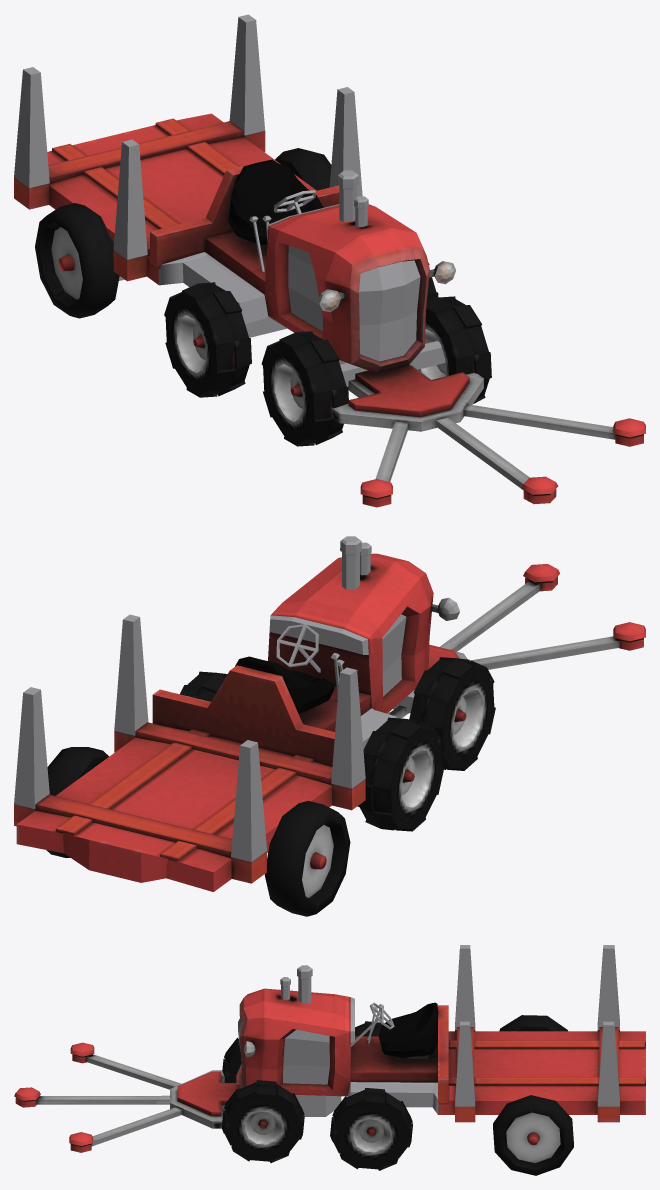
File: harvester1-v1.glb
3 renders of one model, top to bottom at view 1: azimuth 30°, elevation 25°; view 2: azimuth 150°, elevation 25°; view 3: azimuth 270°, elevation 25°, orthographic. The views are drawn at different scales.
Visible parts, largest first — view 1: harvester, tyre005, tyre007, tyre1, tyre006, saw_pipe2, saw_pipe1, saw_pipe3, tyre008; view 2: harvester, tyre005, tyre1, tyre007, saw_pipe3, saw_pipe1, tyre008, tyre004; view 3: harvester, tyre006, tyre004, tyre008, saw_pipe1, saw_pipe2, saw_pipe3, tyre1, tyre007.
Boxes of the visible parts, box(x1,y1,x2,y2) form: harvester: box(14, 14, 483, 431); tyre005: box(164, 282, 251, 397); tyre007: box(261, 331, 348, 446); tyre1: box(35, 203, 119, 318); tyre006: box(418, 296, 491, 403); saw_pipe2: box(463, 404, 645, 446); saw_pipe1: box(436, 417, 558, 504); saw_pipe3: box(360, 421, 408, 507); tyre008: box(275, 148, 331, 190); harvester: box(14, 536, 467, 891); tyre005: box(357, 717, 443, 831); tyre1: box(264, 800, 350, 916); tyre007: box(409, 657, 495, 770); saw_pipe3: box(469, 622, 645, 669); saw_pipe1: box(440, 564, 559, 651); tyre008: box(46, 747, 108, 857); tyre004: box(180, 671, 227, 701); harvester: box(170, 945, 645, 1128); tyre006: box(222, 1080, 304, 1162); tyre004: box(330, 1088, 412, 1170); tyre008: box(493, 1095, 573, 1175); saw_pipe1: box(14, 1087, 169, 1107); saw_pipe2: box(69, 1107, 182, 1152); saw_pipe3: box(70, 1042, 181, 1089); tyre1: box(499, 1015, 567, 1031); tyre007: box(222, 1038, 241, 1082).
Size of the model in its own units: 4.74 by 3.65 by 12.53.
4 materials, 2 textured.
